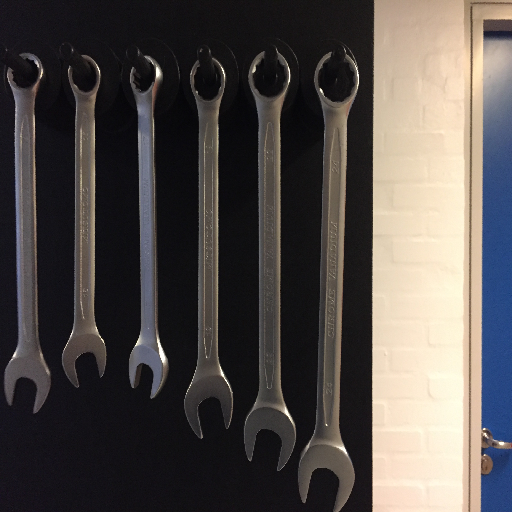bottom: (297, 439, 356, 511), (181, 369, 238, 441), (240, 402, 297, 471), (1, 347, 55, 417), (59, 328, 110, 390), (126, 339, 171, 401)
top: (313, 49, 361, 112), (246, 48, 294, 107), (5, 49, 46, 98), (189, 55, 228, 104), (126, 54, 166, 100), (66, 53, 103, 100)
